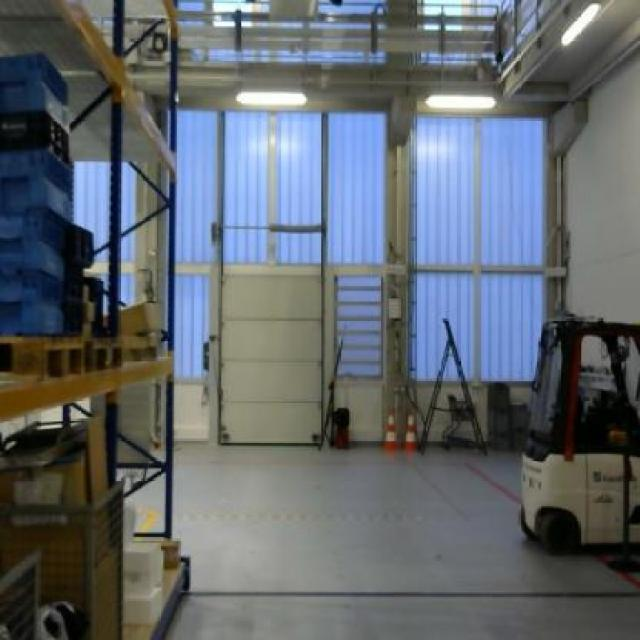box: (115, 296, 163, 335)
